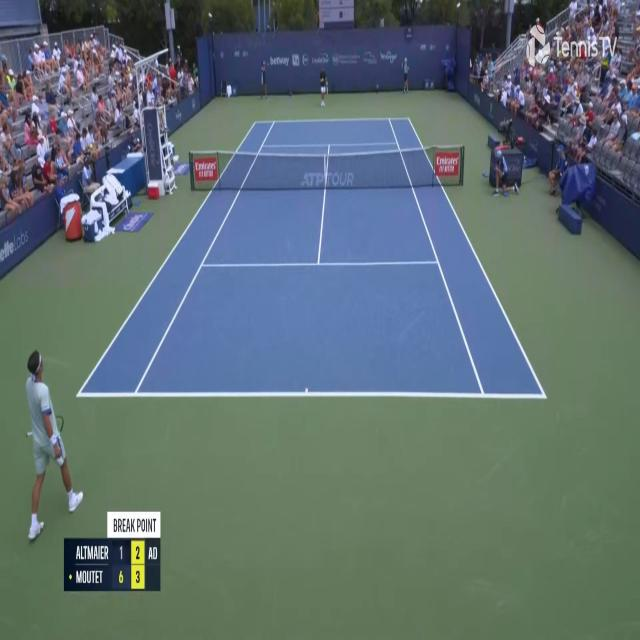tennis-player: (20, 344, 86, 545), (317, 65, 328, 109)
